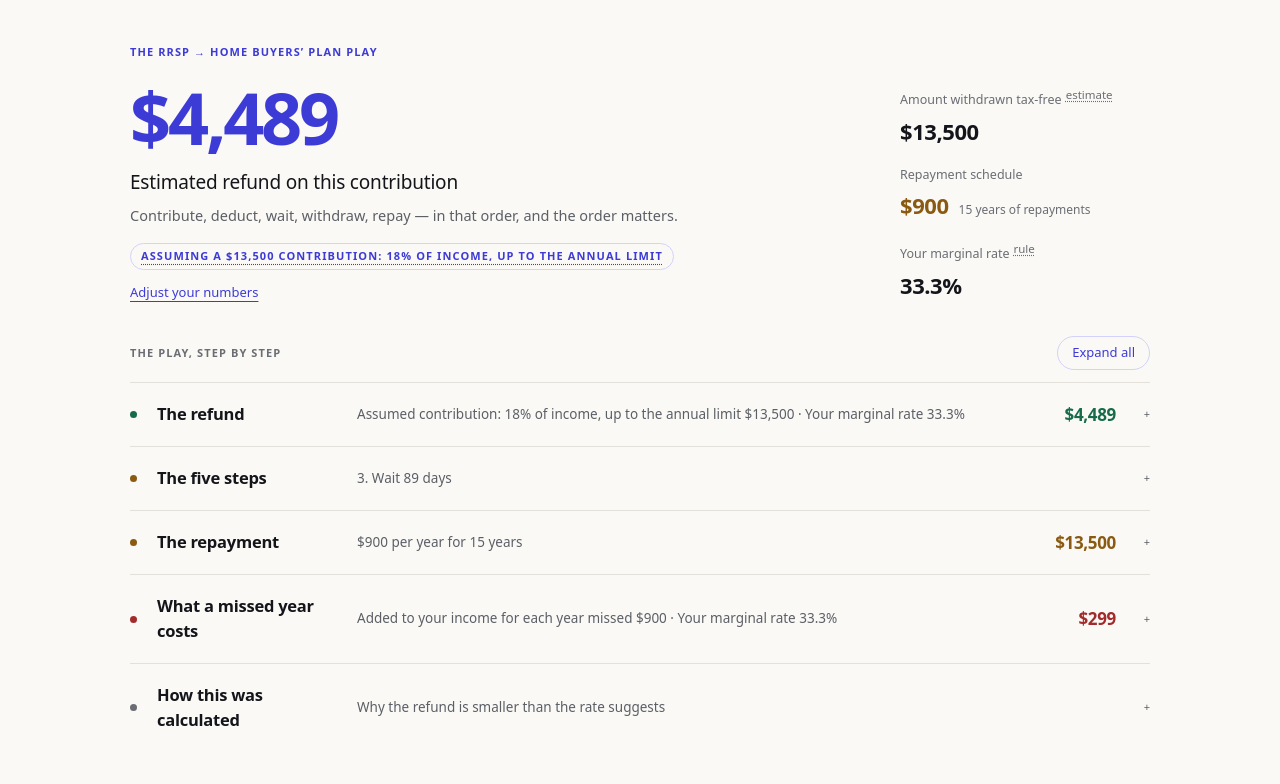
Test case: RRSP → HBP — the room the reader may not have › shows the RRSP dollar limit beside the HBP maximum
This screenshot has width=1280, height=784.
What coordinates should you click on to do the following:
click the button "The refund"
I would click on:
 (640, 414)
Its box is [130,383,1150,446].
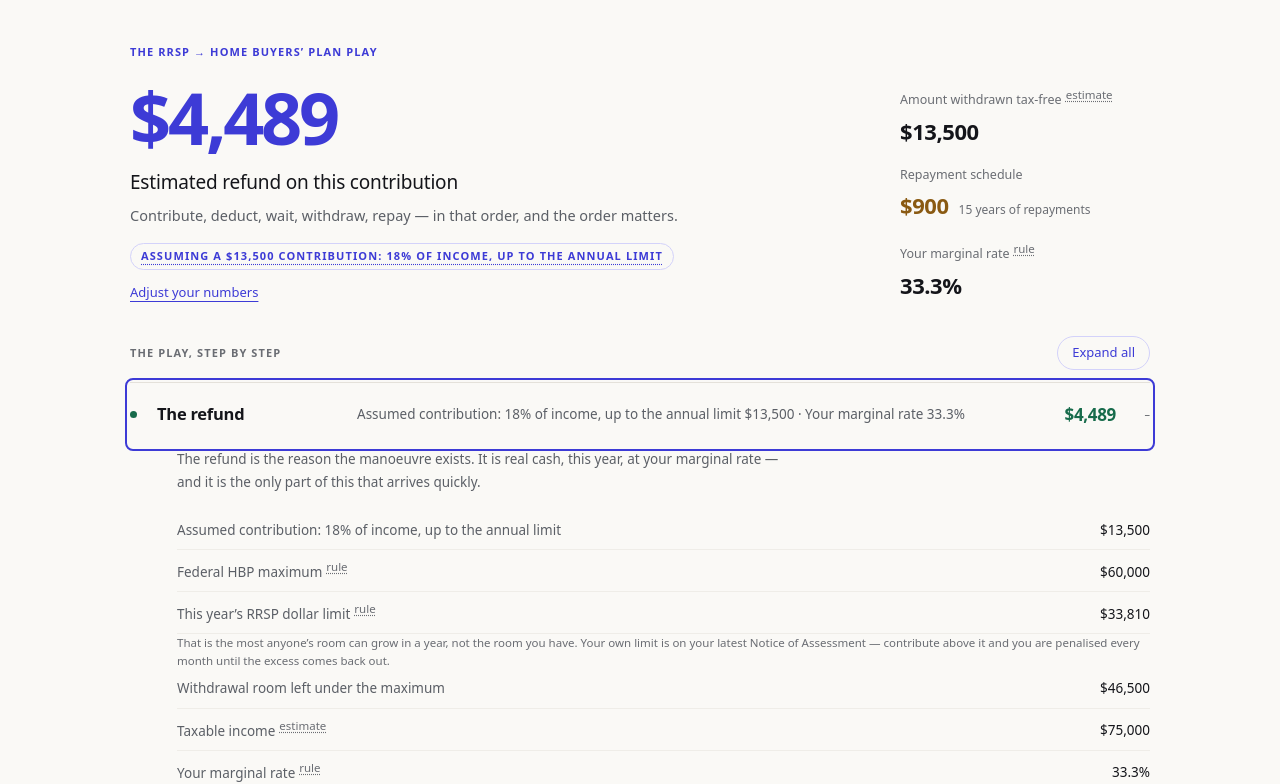
Expected: the text "Federal HBP maximum" is shown, [177,563,322,581]
